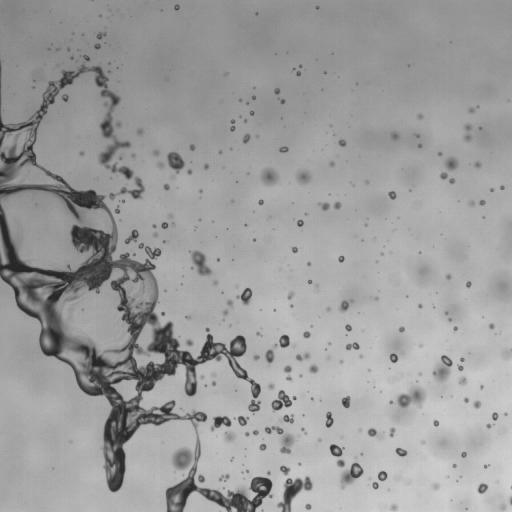droplet: (277, 476, 312, 511), (396, 384, 426, 407), (340, 462, 363, 488), (432, 355, 452, 382), (271, 390, 296, 411), (167, 152, 184, 173), (260, 168, 279, 185), (211, 416, 231, 430), (237, 288, 252, 305), (296, 170, 310, 184), (445, 157, 458, 170), (339, 300, 352, 312), (235, 416, 248, 426), (325, 411, 333, 427), (224, 431, 235, 442), (280, 414, 293, 423), (346, 342, 359, 350), (477, 483, 487, 493), (341, 396, 350, 407), (378, 470, 387, 481), (395, 448, 407, 456), (280, 466, 290, 475), (503, 348, 511, 359), (309, 364, 318, 373), (319, 202, 329, 210), (389, 353, 397, 362), (243, 133, 250, 143), (219, 474, 229, 481), (388, 191, 396, 199), (458, 377, 466, 385), (338, 139, 346, 146), (333, 202, 341, 209), (185, 339, 193, 346), (473, 400, 480, 408), (97, 32, 106, 38), (279, 146, 288, 152), (390, 427, 395, 437), (391, 132, 398, 139), (440, 172, 447, 179), (303, 331, 310, 338), (259, 443, 266, 450), (432, 483, 439, 490), (390, 504, 397, 511), (287, 291, 293, 299), (227, 299, 233, 307), (492, 412, 498, 420), (198, 474, 204, 482), (62, 94, 68, 101), (157, 162, 164, 168), (297, 219, 303, 226), (161, 222, 168, 228), (345, 324, 351, 331), (372, 482, 378, 489), (94, 43, 100, 49), (468, 107, 474, 113), (163, 184, 169, 190), (338, 256, 344, 262), (268, 383, 274, 389), (433, 420, 439, 426), (500, 504, 506, 510), (174, 4, 179, 10), (83, 55, 89, 60), (274, 88, 279, 94), (417, 114, 423, 119), (116, 122, 121, 128), (137, 129, 143, 134), (153, 150, 159, 155), (474, 162, 480, 167), (258, 199, 263, 205), (479, 200, 485, 205), (114, 207, 119, 213), (292, 246, 297, 252), (466, 281, 471, 287), (489, 323, 494, 329), (399, 326, 404, 332), (253, 355, 259, 360), (458, 364, 463, 370), (252, 430, 258, 435), (305, 504, 311, 509), (449, 178, 454, 183), (223, 310, 228, 315), (461, 452, 466, 457), (190, 144, 194, 150), (296, 71, 300, 76), (279, 99, 284, 103), (79, 151, 84, 155), (330, 161, 334, 166), (187, 169, 191, 174), (469, 201, 474, 205), (153, 232, 157, 237), (446, 274, 450, 279), (213, 280, 217, 285), (453, 326, 457, 331), (464, 398, 469, 402), (486, 424, 491, 428), (131, 153, 135, 157), (204, 164, 208, 168), (500, 185, 504, 189), (418, 304, 422, 308), (326, 307, 330, 311), (186, 315, 190, 319), (389, 400, 393, 404), (245, 432, 249, 436), (250, 111, 253, 115), (152, 224, 156, 227), (307, 262, 311, 265), (257, 332, 261, 335), (460, 358, 464, 361), (393, 376, 396, 380), (212, 381, 215, 385), (484, 464, 488, 467), (490, 188, 493, 191), (34, 203, 37, 206), (172, 223, 175, 226), (308, 280, 311, 283), (375, 297, 378, 300), (212, 373, 215, 376), (200, 375, 203, 378), (480, 385, 483, 388), (302, 429, 305, 432), (318, 438, 321, 441), (453, 464, 456, 467), (267, 471, 270, 474), (198, 190, 202, 192), (422, 440, 424, 444), (316, 6, 318, 9), (252, 96, 255, 98), (416, 134, 418, 137), (418, 145, 421, 147), (439, 152, 441, 155), (169, 214, 171, 217), (162, 312, 164, 315), (359, 355, 362, 357), (340, 360, 342, 363), (246, 470, 249, 472), (67, 48, 69, 50), (292, 68, 294, 70), (244, 119, 246, 121), (219, 151, 221, 153), (119, 156, 121, 158), (70, 309, 72, 311), (449, 319, 451, 321), (419, 373, 421, 375), (231, 458, 233, 460), (298, 463, 300, 465)
ligament: (0, 60, 267, 511), (265, 427, 295, 453), (265, 334, 289, 364), (190, 250, 212, 275), (329, 444, 345, 467), (124, 229, 138, 244), (367, 428, 384, 439), (284, 365, 292, 381), (464, 123, 471, 141), (296, 352, 310, 361), (230, 119, 235, 131), (509, 496, 511, 505)
